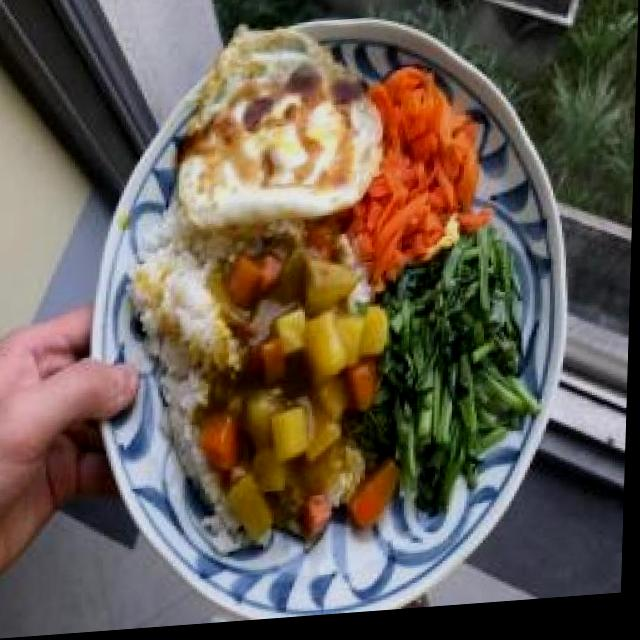carrot_eggs: (378, 69, 483, 263)
curry: (222, 223, 377, 541)
fried_eggs: (176, 24, 389, 234)
rice: (136, 231, 227, 499)
water_spinach: (375, 257, 526, 530)
